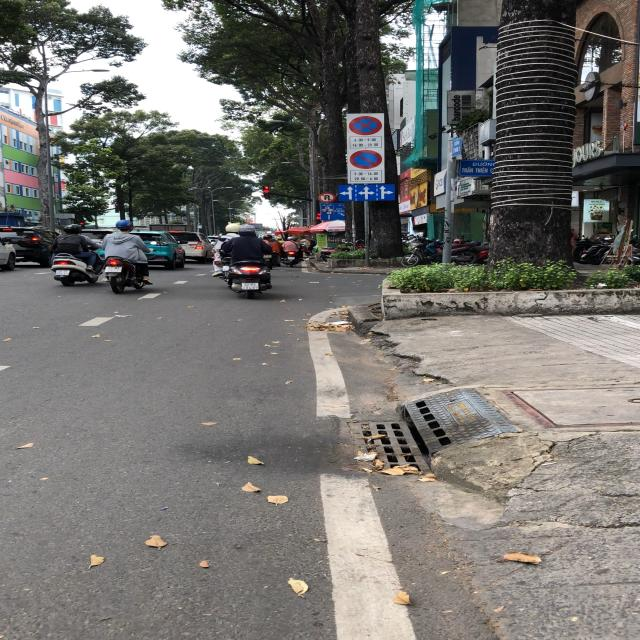Bien bao cam do xe: (348, 148, 386, 170)
Bien bao cam dung xe va do xe: (347, 115, 389, 136)
Bien bao cam quay dau xe: (316, 191, 336, 203)
